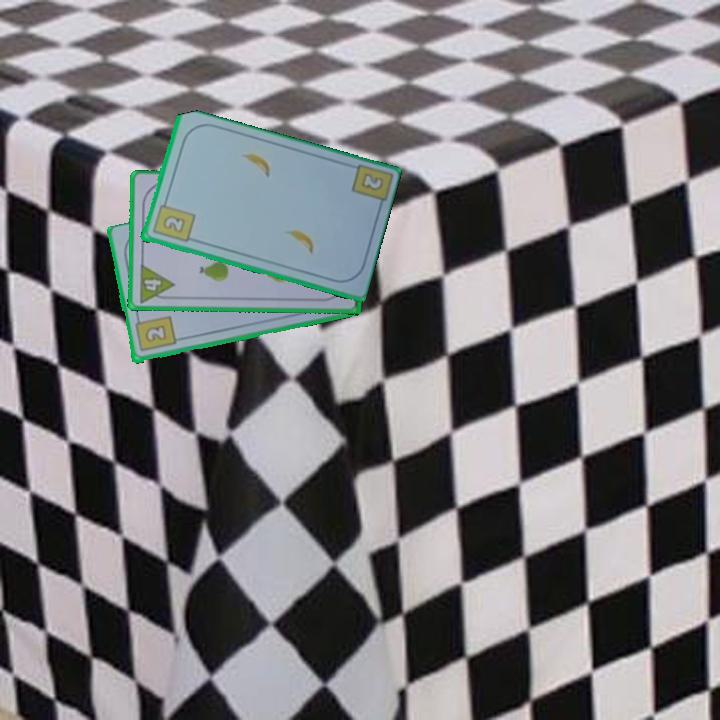2b: (149, 196, 197, 245), (131, 313, 178, 355), (357, 169, 386, 194)
4p: (135, 261, 177, 305)
